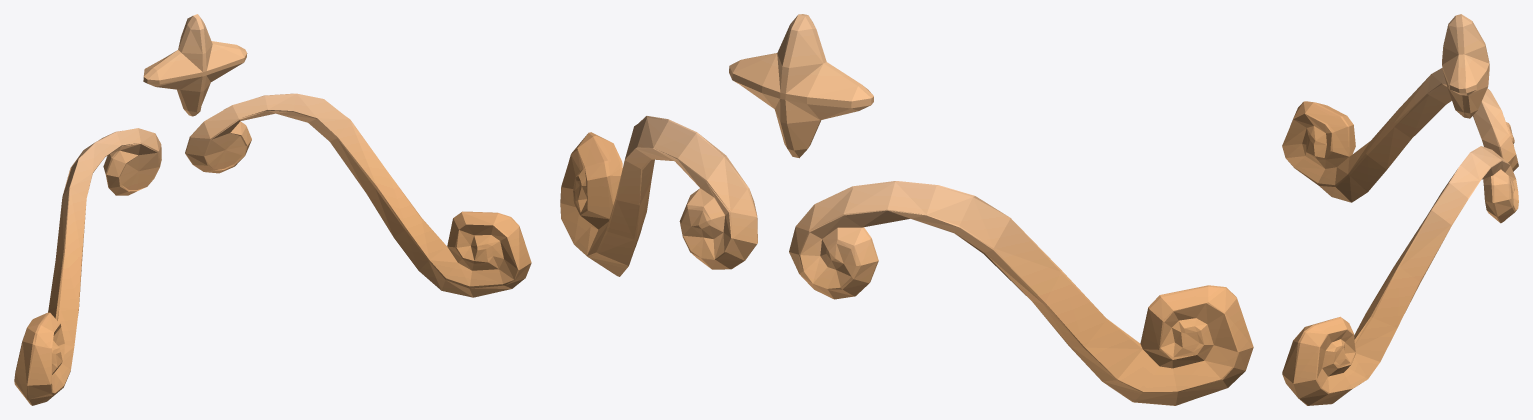
The model's file is CharSkyKid_Face_AP23Filigree.glb.
3 renders of one model, left to right at view 1: azimuth 30°, elevation 25°; view 2: azimuth 150°, elevation 25°; view 3: azimuth 270°, elevation 25°, orthographic. The views are drawn at different scales.
Parts seen in each view (by area): view 1: CharSkyKid_Face_AP23Filigree; view 2: CharSkyKid_Face_AP23Filigree; view 3: CharSkyKid_Face_AP23Filigree.
Part boxes in pixels (bbox=[...]): CharSkyKid_Face_AP23Filigree: bbox=[14, 14, 531, 405]; CharSkyKid_Face_AP23Filigree: bbox=[560, 14, 1253, 405]; CharSkyKid_Face_AP23Filigree: bbox=[1282, 14, 1518, 405].
Bounding box in the file's own units: 3.49 × 1.89 × 1.42.
Materials: 1 (1 with a texture image).
